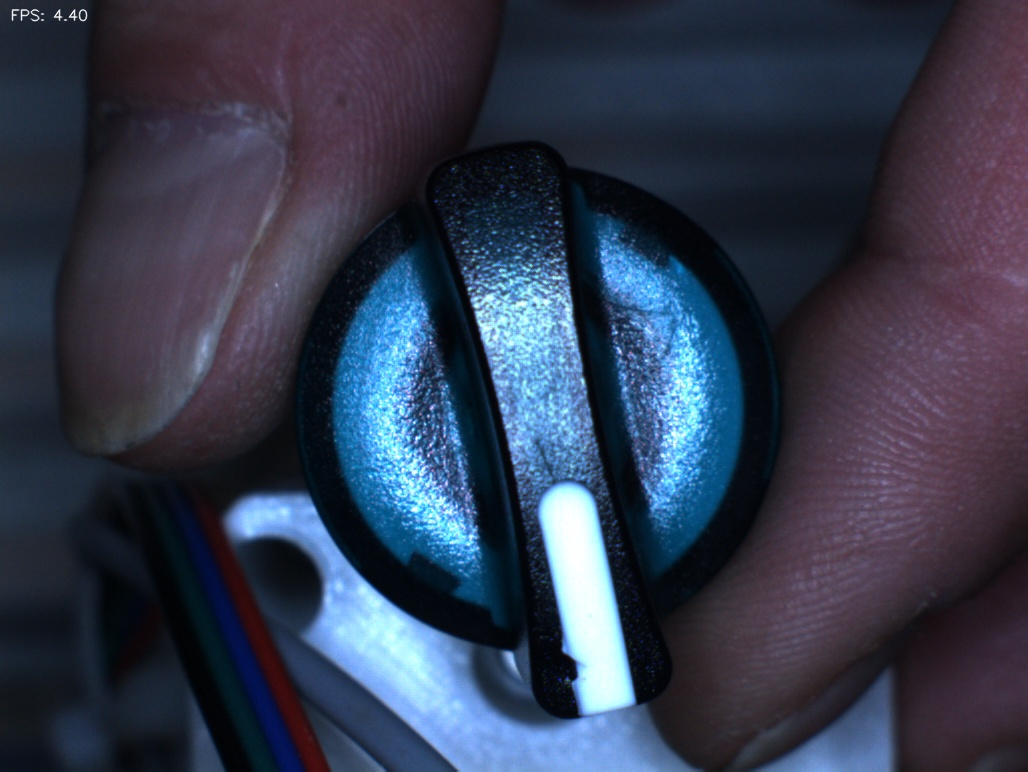Choc: (532, 629, 609, 706)
